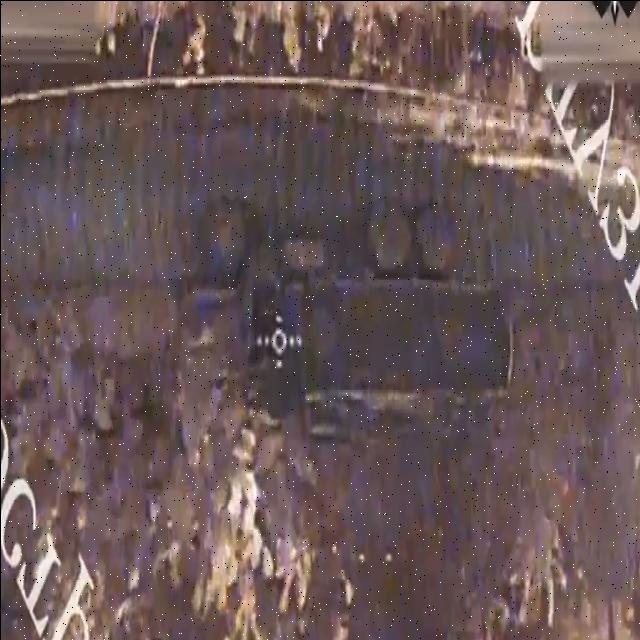TRUCK: (171, 191, 517, 482)
